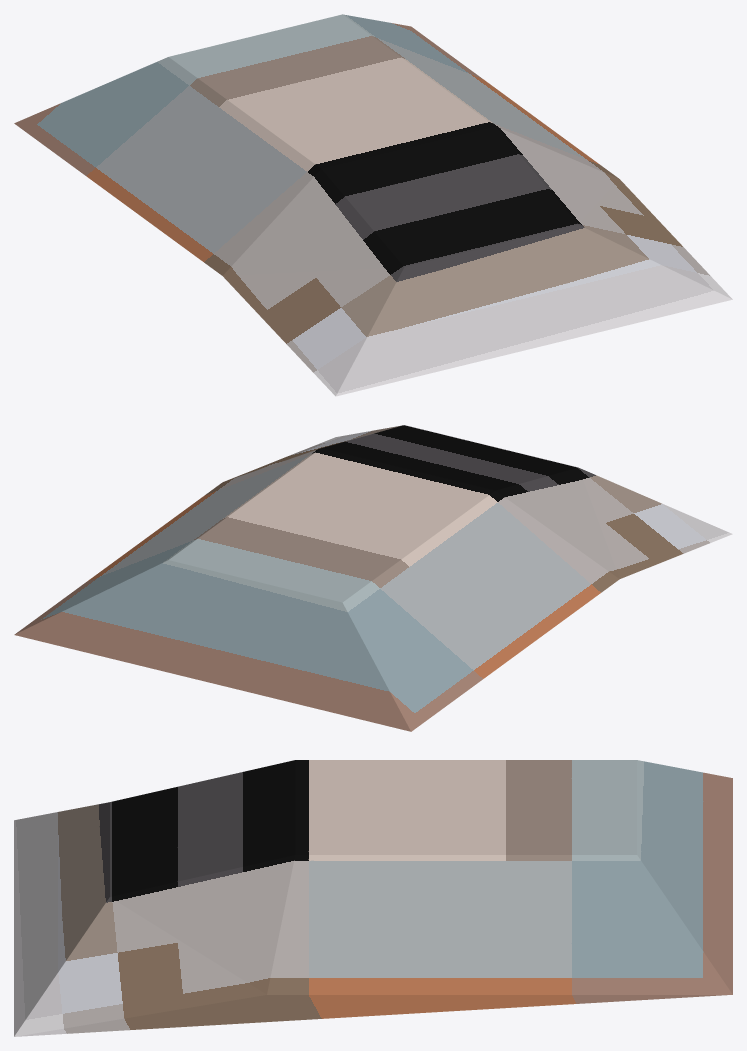
Rendered from Turret.obj.
3 renders of one model, top to bottom at view 1: azimuth 30°, elevation 25°; view 2: azimuth 150°, elevation 25°; view 3: azimuth 270°, elevation 25°, orthographic. The views are drawn at different scales.
Parts seen in each view (by area): view 1: TurretUV; view 2: TurretUV; view 3: TurretUV.
Boxes of the visible parts, x1,y1,x2,y2 form: TurretUV: [14, 14, 732, 396]; TurretUV: [14, 425, 732, 731]; TurretUV: [14, 760, 732, 1036].
Size of the model in its own units: 1.17 by 0.3062 by 1.65.
